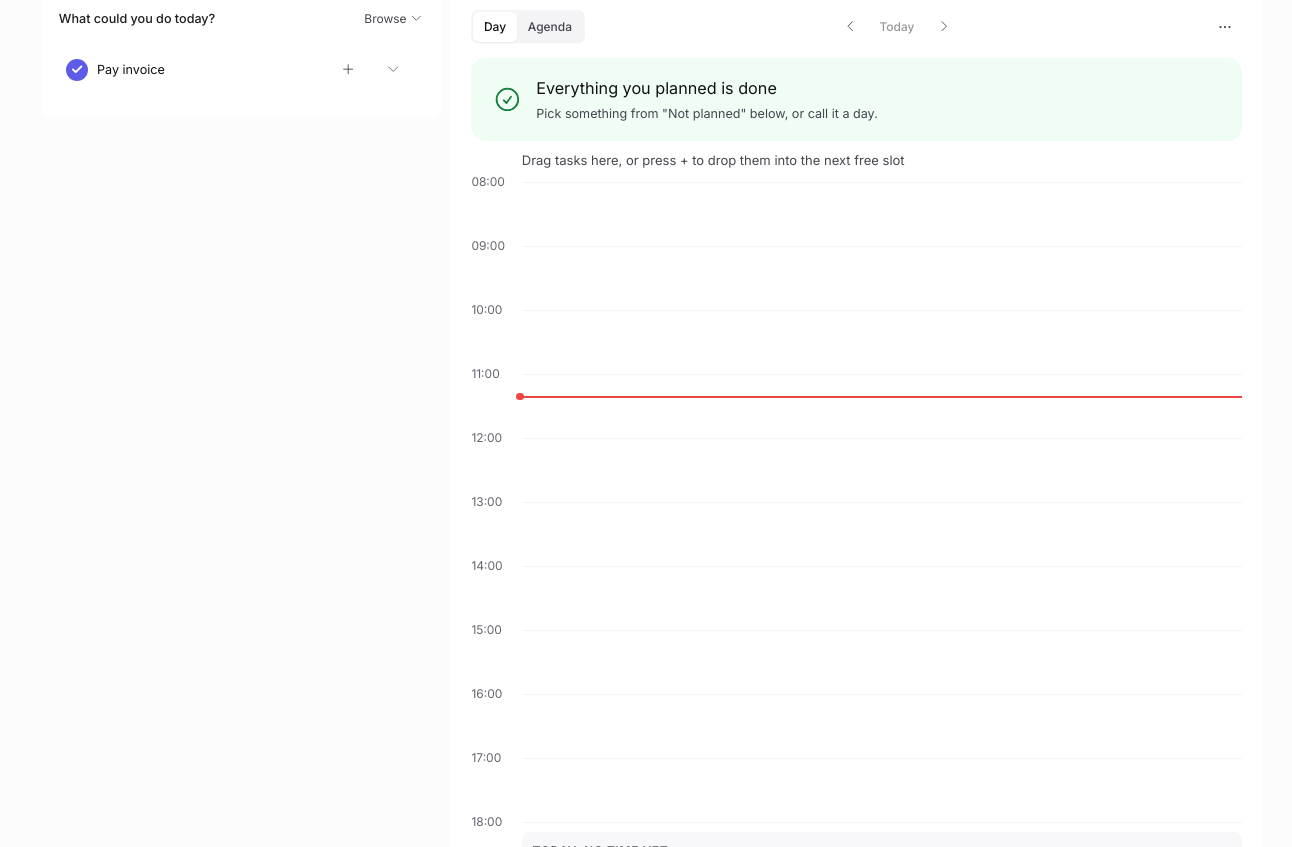
Test case: TodayPage routing and panel mode › moves the calendar day with its own arrows, like the header
(page scrolled)
Expected: the button "Pay invoice" is shown, [97,61,165,79]
Click the button with test id "panel-next" at (944, 27), box [929,12,959,42]
(page scrolled)
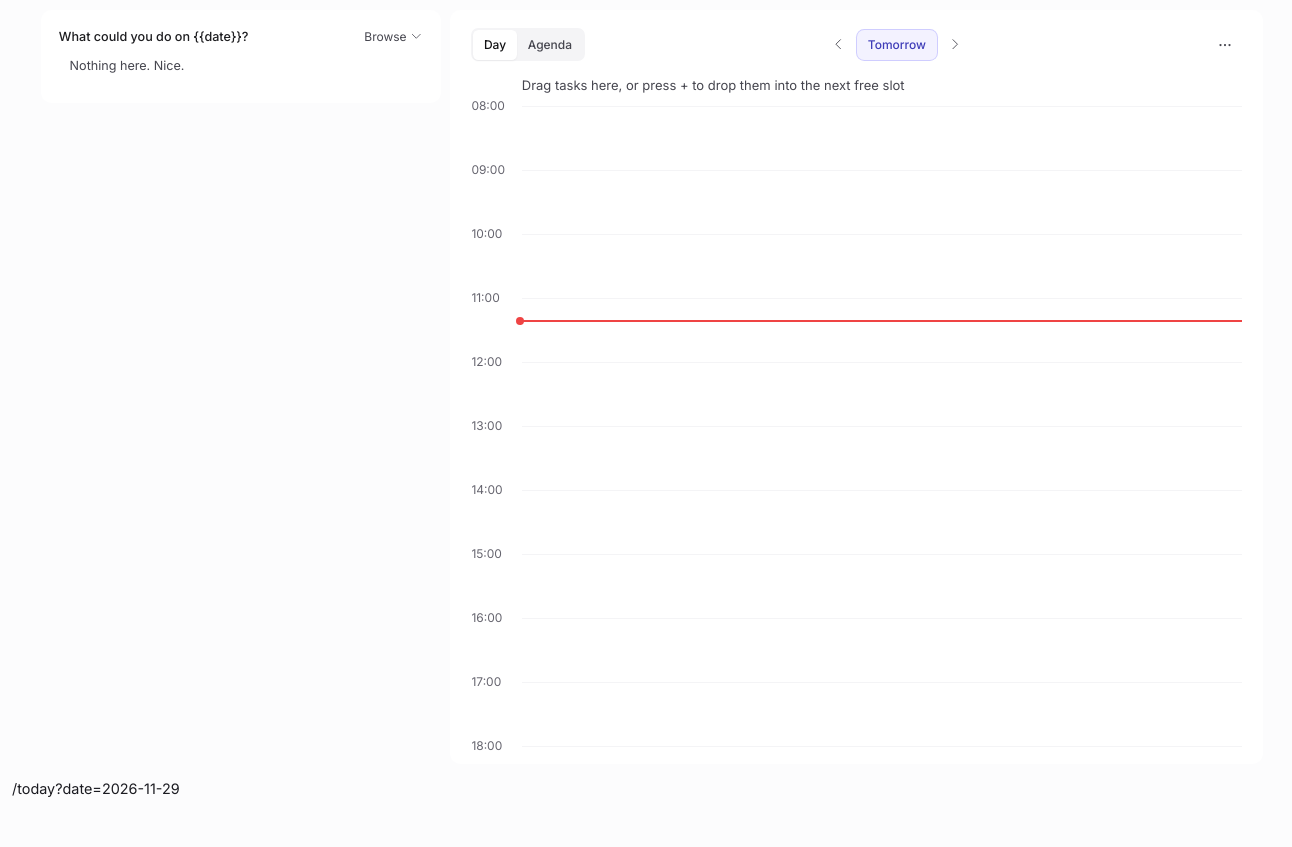
Click the button with test id "panel-today" at (897, 45), box [857,30,937,60]
(page scrolled)
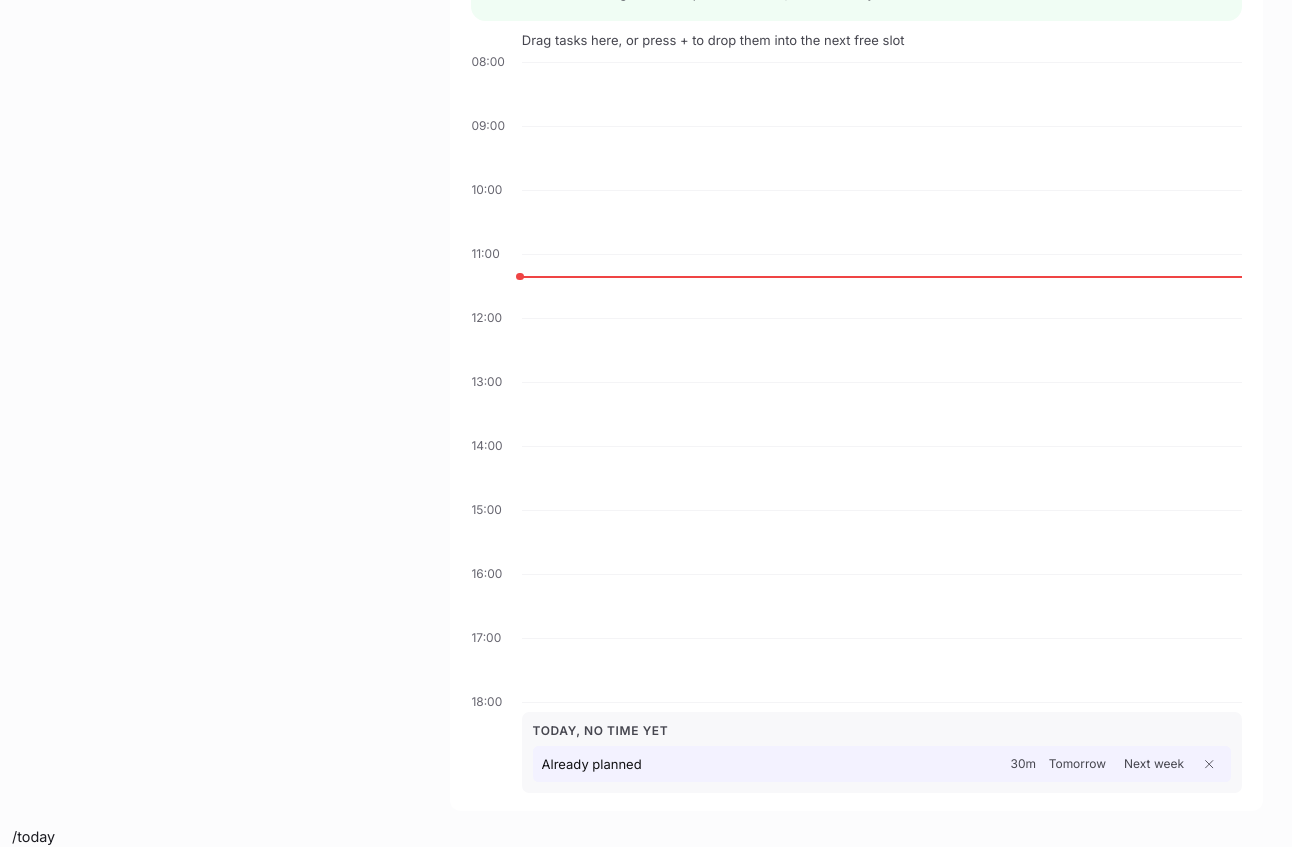
Now the text with test id "location" reads "/today", box [12,828,55,845]
